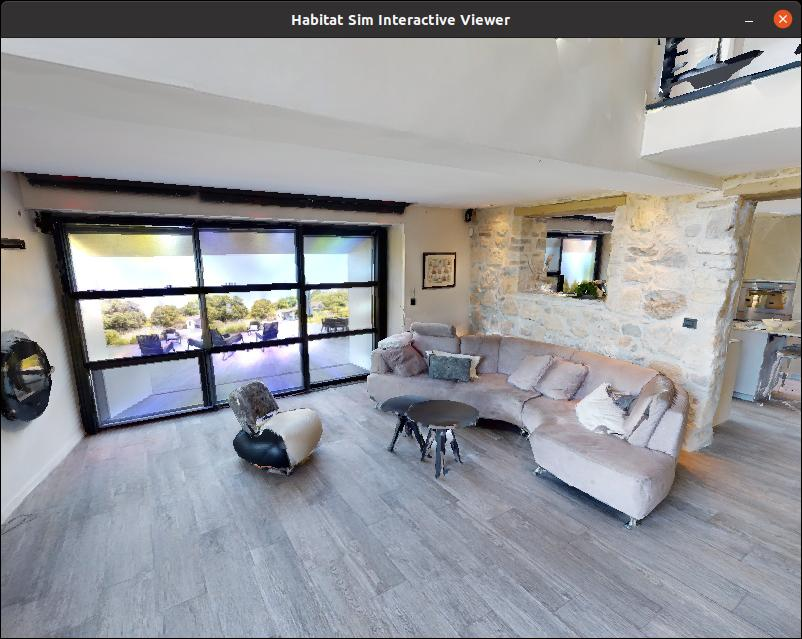door-frame: (701, 189, 802, 498)
sofa: (373, 315, 692, 531), (217, 381, 333, 479)
table: (381, 369, 476, 486)
